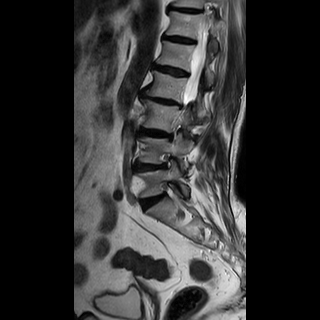RFS2: (152, 146, 179, 177)
